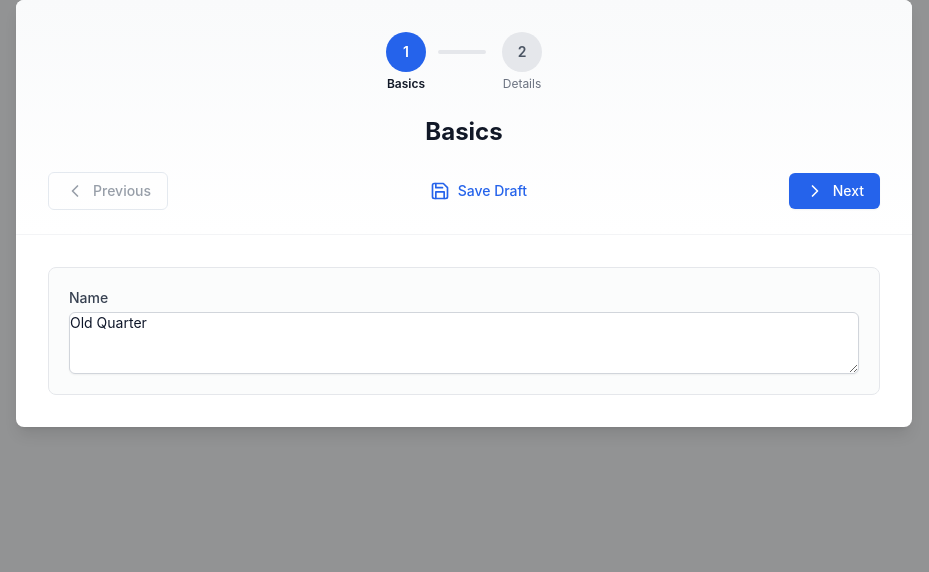
Test case: FormWizard validation result log (KNG-269) › Next validates the step in one request naming the draft, and a result answered from the log says when it really ran
The width and height of the screenshot is (929, 572).
Check: the text box showing "Old Quarter" is shown, box [69,312,859,374]
Click the button "Next": (834, 191) [789,173,880,209]
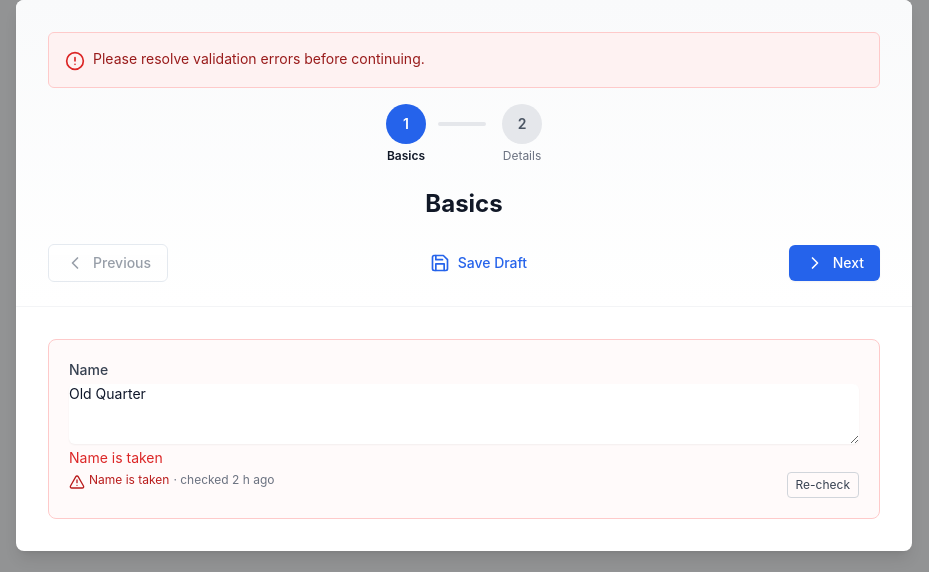
Check: the text "· checked 2 h ago" is shown, box [173,472,274,487]
